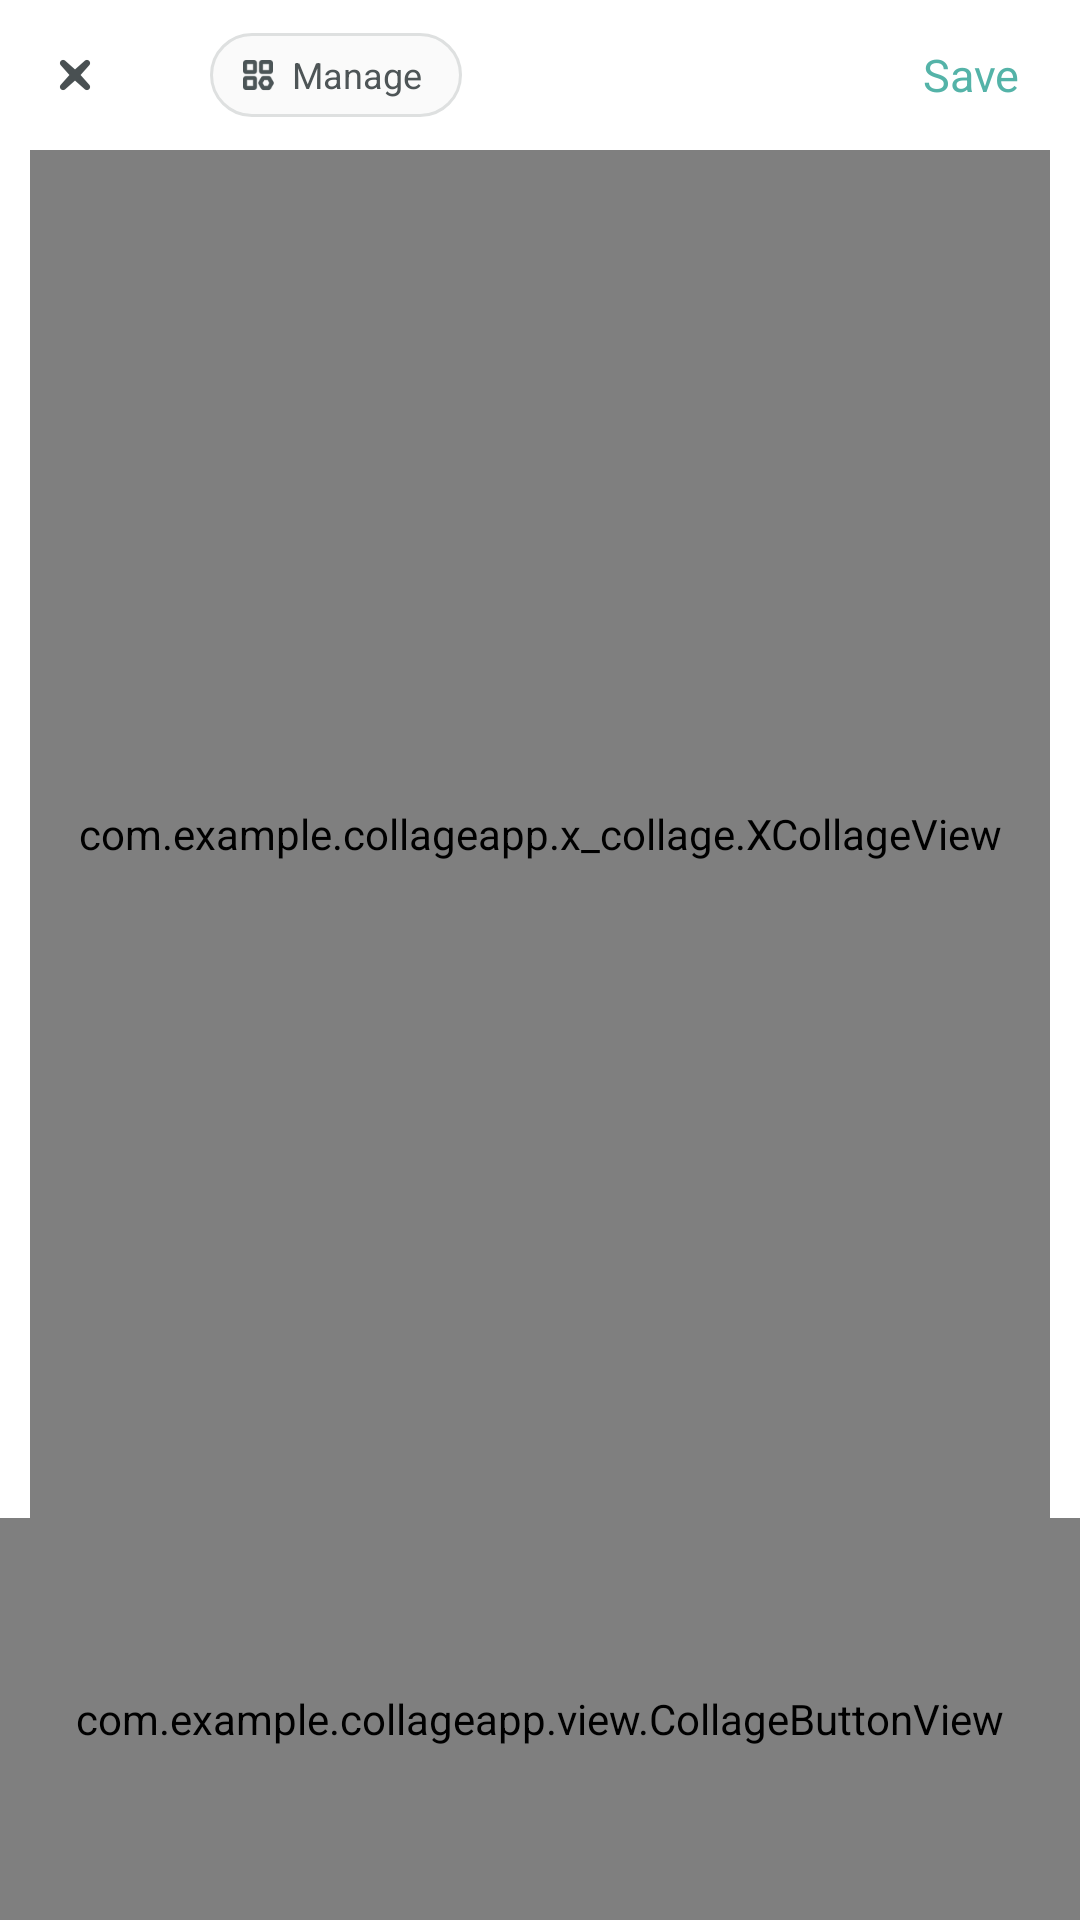

Screen size 1080 x 1920. Icon name, then its box in pixels as (x1, y1, x2, y2):
close: (60, 60, 90, 90)
